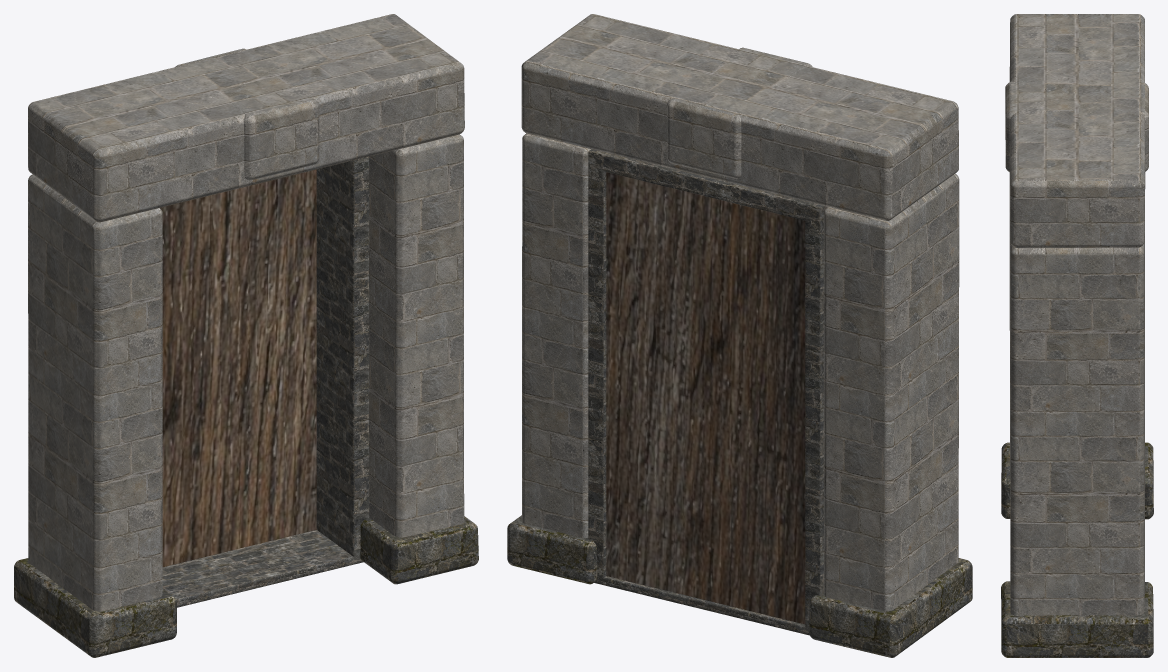
Rendered from stone-doorway-v01.glb.
3 views of the same model, side by side, from view 1: azimuth 30°, elevation 25°; view 2: azimuth 150°, elevation 25°; view 3: azimuth 270°, elevation 25° (orthographic). The views are drawn at different scales.
Parts seen in each view (by area): view 1: stone-doorway; view 2: stone-doorway; view 3: stone-doorway.
Part boxes in pixels (bbox=[...]): stone-doorway: bbox=[14, 14, 478, 657]; stone-doorway: bbox=[507, 14, 972, 657]; stone-doorway: bbox=[1001, 14, 1153, 657].
Bounding box in the file's own units: 2.84 × 3.51 × 1.02.
4 materials, 4 textured.
